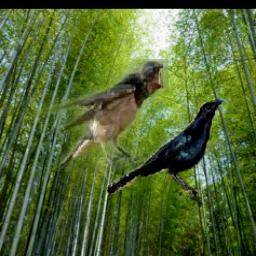Crow: (106, 100, 224, 202)
Swallow: (32, 59, 167, 172)
